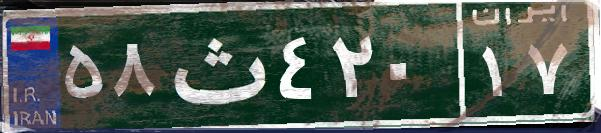0: (385, 28, 445, 110)
1: (475, 38, 525, 113)
2: (330, 28, 385, 110)
4: (273, 28, 330, 110)
5: (57, 26, 110, 107)
7: (525, 38, 570, 115)
8: (110, 28, 158, 105)
ث: (158, 15, 273, 115)
